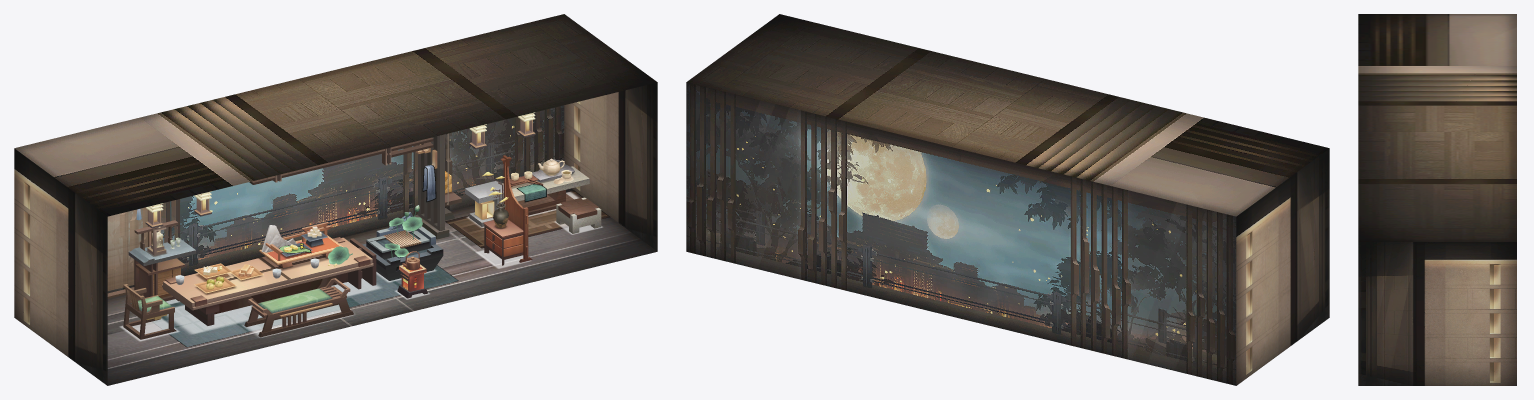
The model's file is springfeast.glb.
3 renders of one model, left to right at view 1: azimuth 30°, elevation 25°; view 2: azimuth 150°, elevation 25°; view 3: azimuth 270°, elevation 25°, orthographic. The views are drawn at different scales.
Visible parts, largest first — view 1: ROOM_room, ROOM_floor, furni_springfeast_desserttable_01, furni_springfeast_carpet_01, furni_springfeast_stonetable_01, furni_springfeast_bench_01, furni_springfeast_cutofftable_01, furni_springfeast_table_01, furni_springfeast_coatrack_01, furni_springfeast_lotus_01, furni_springfeast_paravant_03, furni_springfeast_chair_01 (+11 smaller); view 2: ROOM_room, ROOM_LDoor; view 3: ROOM_room, ROOM_RDoor.
Part boxes in pixels (<box>): ROOM_room: <box>14,14,657,385</box>; ROOM_floor: <box>107,188,657,385</box>; furni_springfeast_desserttable_01: <box>162,222,376,325</box>; furni_springfeast_carpet_01: <box>152,265,458,347</box>; furni_springfeast_stonetable_01: <box>465,159,589,226</box>; furni_springfeast_bench_01: <box>244,278,353,337</box>; furni_springfeast_cutofftable_01: <box>482,155,532,265</box>; furni_springfeast_table_01: <box>128,220,195,301</box>; furni_springfeast_coatrack_01: <box>414,132,461,239</box>; furni_springfeast_lotus_01: <box>362,212,443,280</box>; furni_springfeast_paravant_03: <box>107,207,147,290</box>; furni_springfeast_chair_01: <box>123,284,176,339</box>; ROOM_room: <box>686,14,1329,385</box>; ROOM_LDoor: <box>1297,251,1315,341</box>; ROOM_room: <box>1358,14,1516,385</box>; ROOM_RDoor: <box>1381,320,1414,385</box>.
Size of the model in its own units: 7.48 by 2.2 by 2.24.
8 materials, 8 textured.
